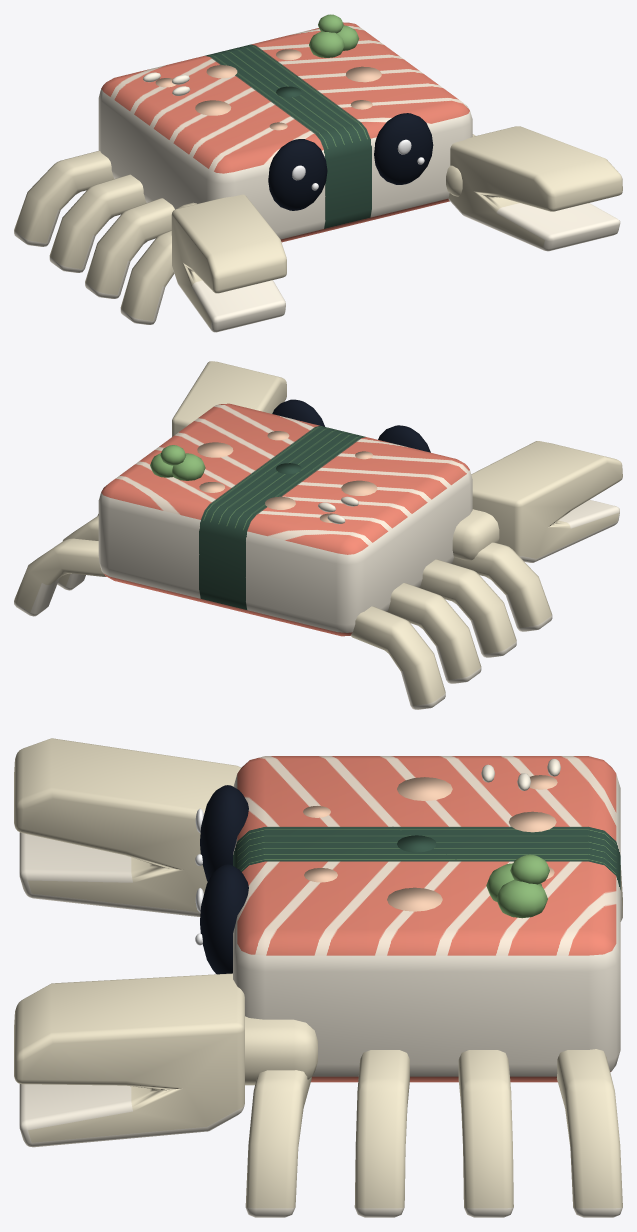
Rendered from SushiCrab.fbx.
3 renders of one model, top to bottom at view 1: azimuth 30°, elevation 25°; view 2: azimuth 150°, elevation 25°; view 3: azimuth 270°, elevation 25°, orthographic. The views are drawn at different scales.
Visible parts, largest first — view 1: SushiCrab_Body, SushiCrab, SushiCrab_Claw_R, SushiCrab_Claw_L, SushiCrab_Eye_L, SushiCrab_Eye_R; view 2: SushiCrab_Body, SushiCrab, SushiCrab_Claw_L, SushiCrab_Claw_R, SushiCrab_Arm_L, SushiCrab_Eye_R, SushiCrab_Eye_L; view 3: SushiCrab_Body, SushiCrab, SushiCrab_Claw_R, SushiCrab_Claw_L, SushiCrab_Arm_R, SushiCrab_Eye_R, SushiCrab_Eye_L.
Part boxes in pixels (x1,y1,x2,y2): SushiCrab_Body: (98,14,472,242); SushiCrab: (14,49,475,324); SushiCrab_Claw_R: (448,126,622,251); SushiCrab_Claw_L: (171,194,286,332); SushiCrab_Eye_L: (268,139,327,210); SushiCrab_Eye_R: (374,113,433,184); SushiCrab_Body: (98,403,472,636); SushiCrab: (14,431,552,709); SushiCrab_Claw_L: (471,441,622,562); SushiCrab_Claw_R: (172,361,286,436); SushiCrab_Arm_L: (452,509,499,560); SushiCrab_Eye_R: (272,399,324,426); SushiCrab_Eye_L: (378,425,430,452); SushiCrab_Body: (233,756,620,1082); SushiCrab: (245,775,622,1217); SushiCrab_Claw_R: (14,973,244,1147); SushiCrab_Claw_L: (14,738,240,916); SushiCrab_Arm_R: (245,1016,317,1085); SushiCrab_Eye_R: (200,864,248,974); SushiCrab_Eye_L: (200,785,248,881).
Size of the model in its own units: 374 by 151 by 305.
2 materials, 2 textured.
